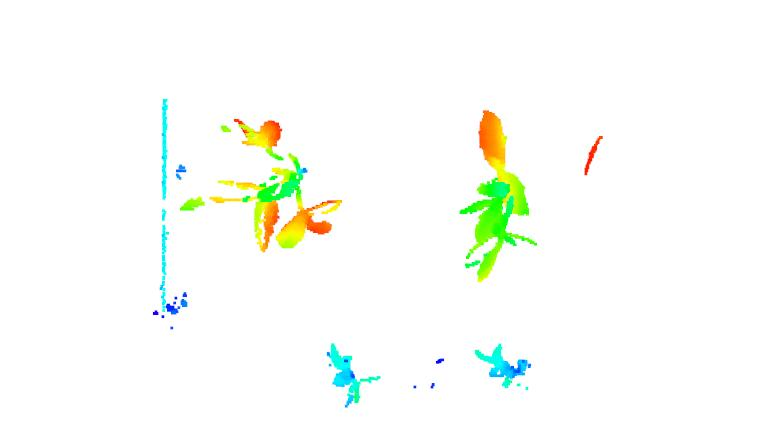mungbean: (218, 119, 340, 252), (453, 106, 541, 285), (469, 333, 536, 393), (326, 342, 368, 413)
